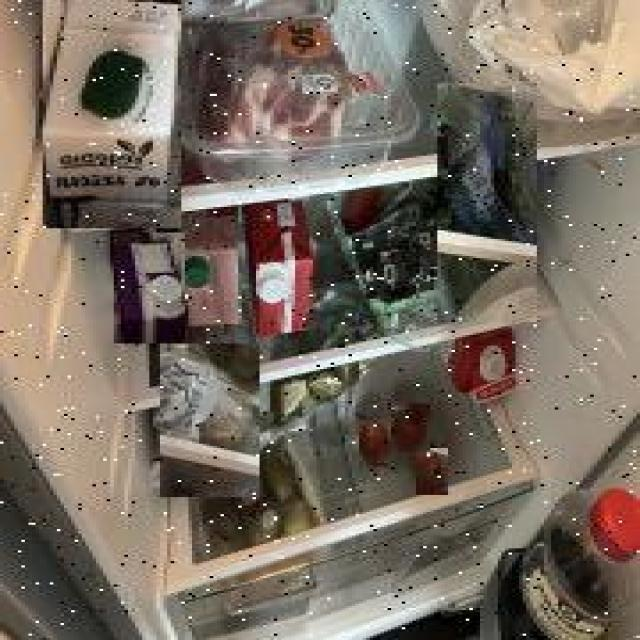avocado: (366, 252, 419, 298), (408, 226, 452, 280)
bread: (160, 344, 260, 497)
milk: (42, 0, 181, 228), (243, 202, 314, 342), (114, 232, 185, 344)
salad: (439, 83, 539, 322)
tomato: (391, 404, 430, 454), (359, 420, 391, 467), (416, 448, 448, 495)
